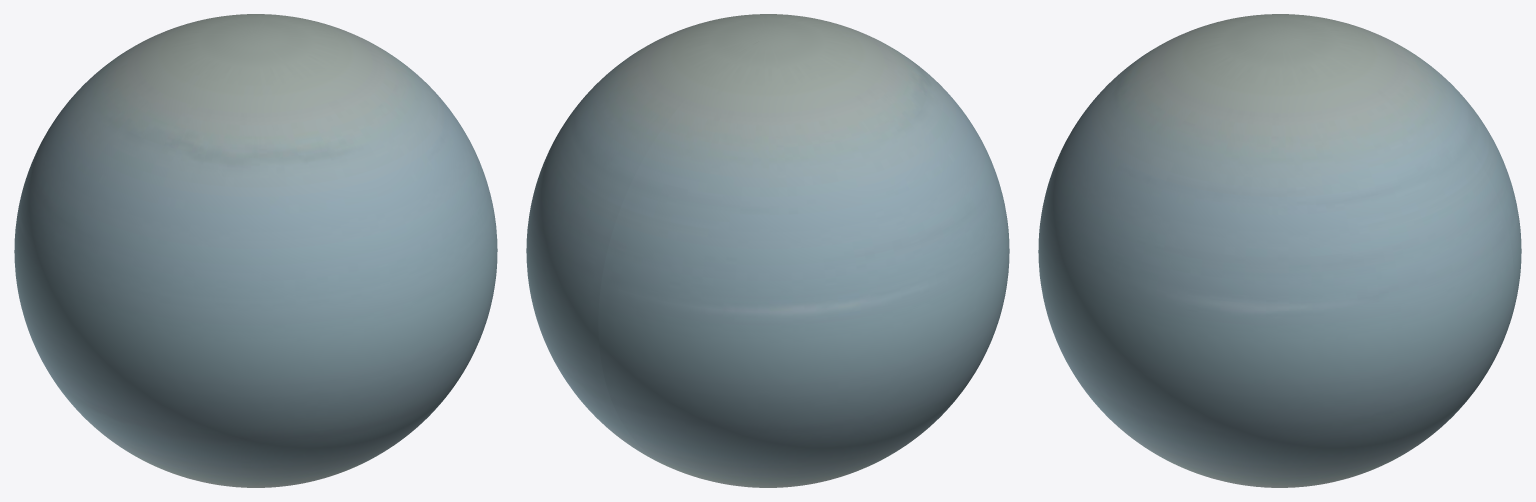
File: uranus.glb
3 views of the same model, side by side, from view 1: azimuth 30°, elevation 25°; view 2: azimuth 150°, elevation 25°; view 3: azimuth 270°, elevation 25° (orthographic).
Visible parts, largest first — view 1: Body; view 2: Body; view 3: Body.
Part boxes in pixels (left/top/right/bottom): Body: left=14, top=14, right=497, bottom=487; Body: left=526, top=14, right=1009, bottom=487; Body: left=1038, top=14, right=1521, bottom=487.
Bounding box in the file's own units: 2 × 1.95 × 2.
Materials: 1 (1 with a texture image).
